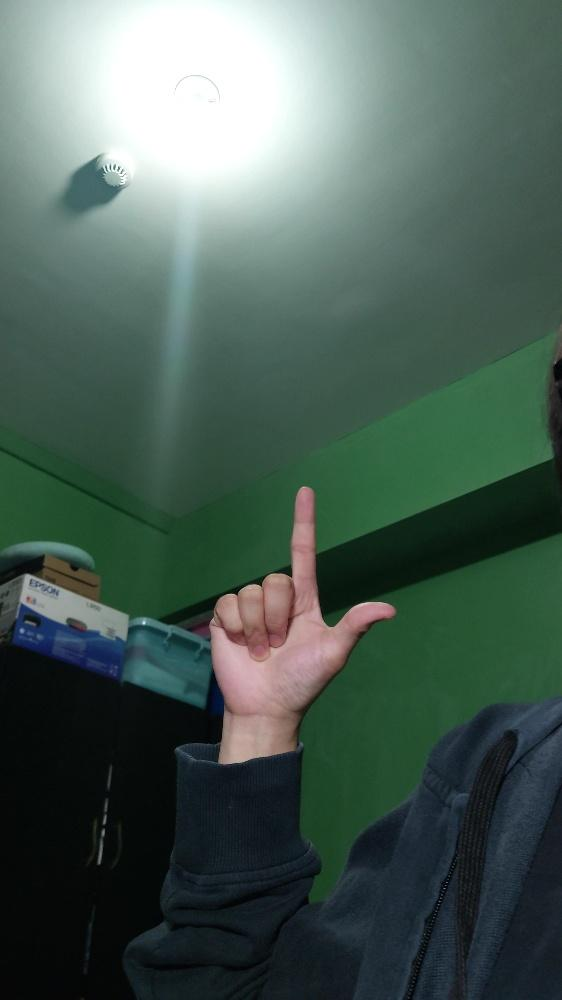l: (208, 485, 396, 720)
